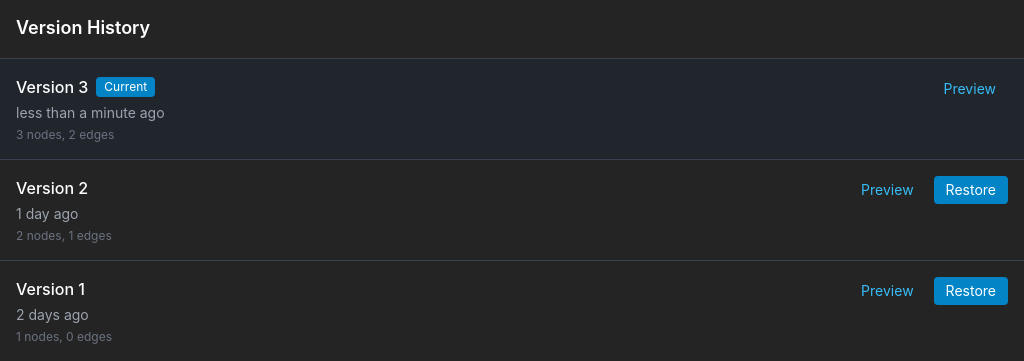
Test case: VersionHistory › restore functionality › should show error when restore fails
expect the text "Version 2" is shown: met, box [16, 176, 88, 200]
Click the 1st button "Restore" at (971, 190), box [934, 176, 1008, 204]
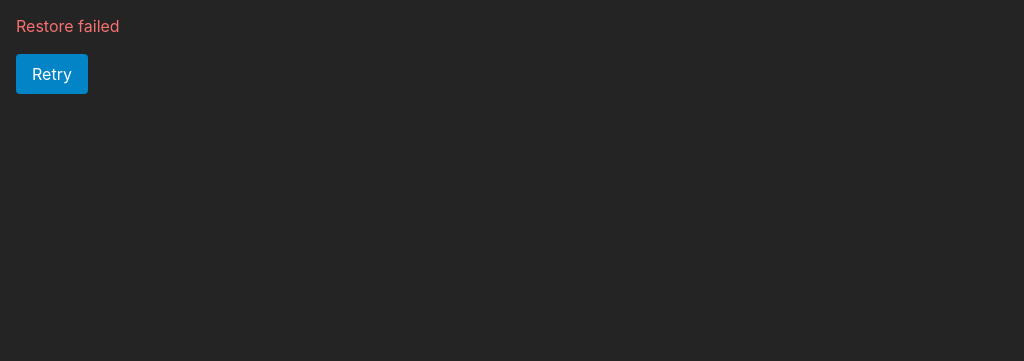
expect the text "Restore failed" is shown: met, box [16, 16, 120, 36]
